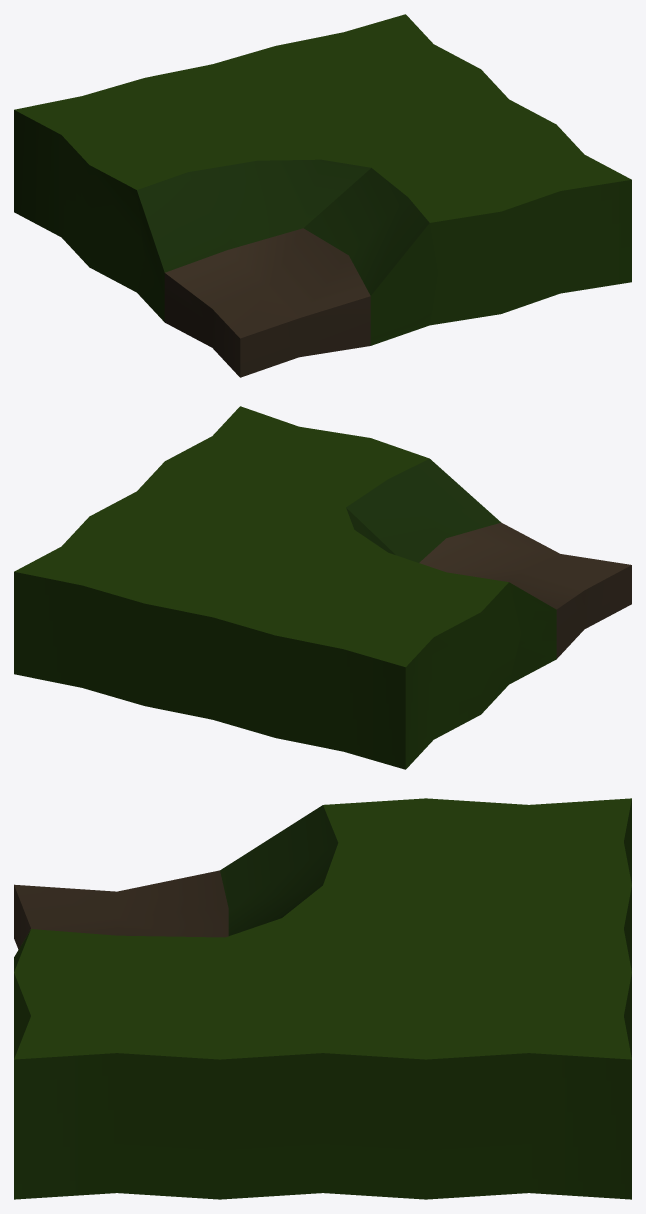
The model's file is jaggeredTile-07a_col.fbx.
The picture shows the model from 3 angles, top to bottom: view 1: azimuth 30°, elevation 25°; view 2: azimuth 150°, elevation 25°; view 3: azimuth 270°, elevation 25°; orthographic projection. The views are drawn at different scales.
Parts seen in each view (by area): view 1: jaggeredTile-07a.col; view 2: jaggeredTile-07a.col; view 3: jaggeredTile-07a.col.
Part boxes in pixels (bbox=[...]): jaggeredTile-07a.col: bbox=[14, 14, 631, 377]; jaggeredTile-07a.col: bbox=[14, 406, 631, 769]; jaggeredTile-07a.col: bbox=[14, 798, 631, 1199].
Size of the model in its own units: 2 by 0.5 by 2.
Materials: 1 (1 with a texture image).
